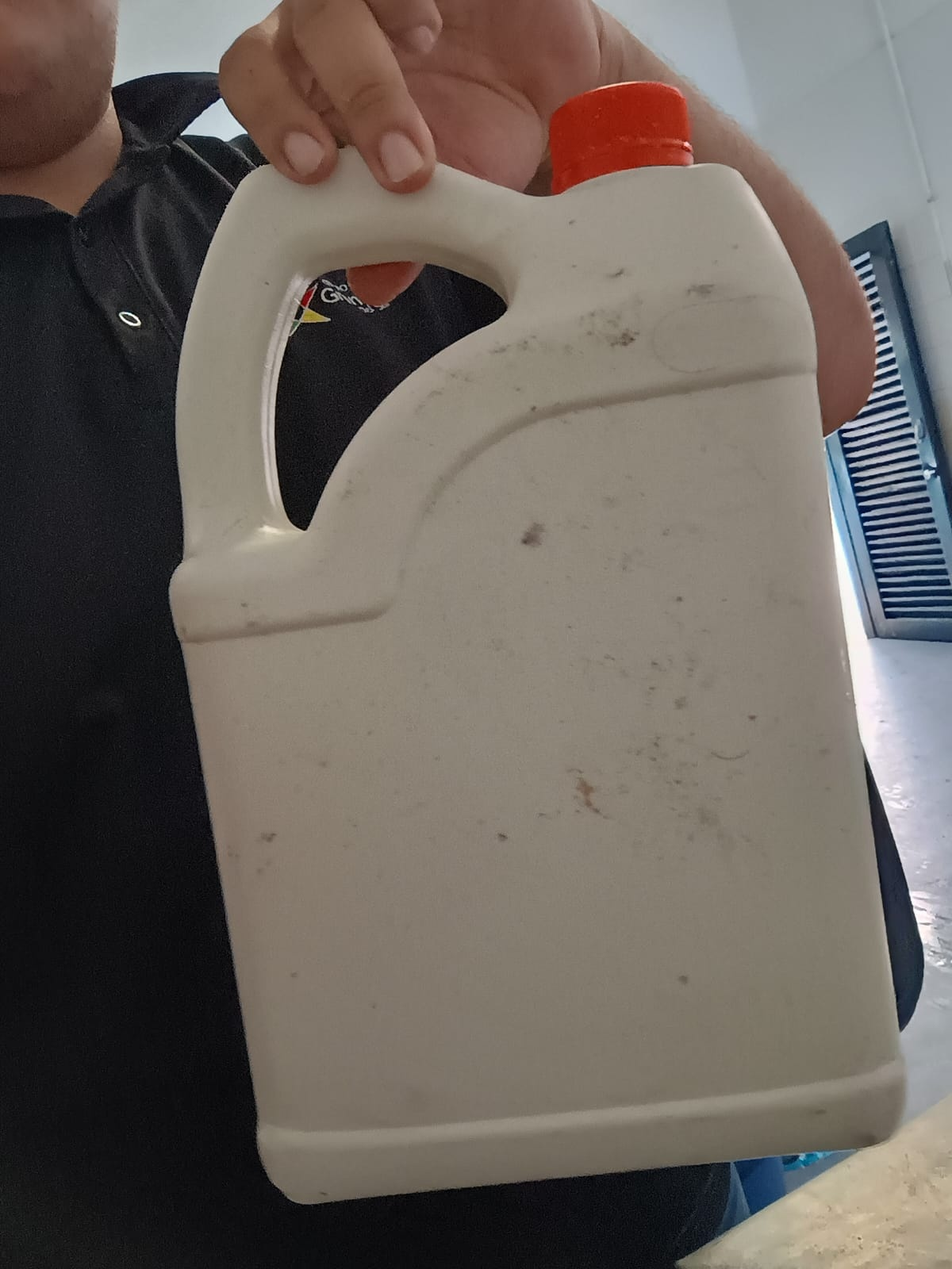Plastico: (170, 81, 910, 1207)
